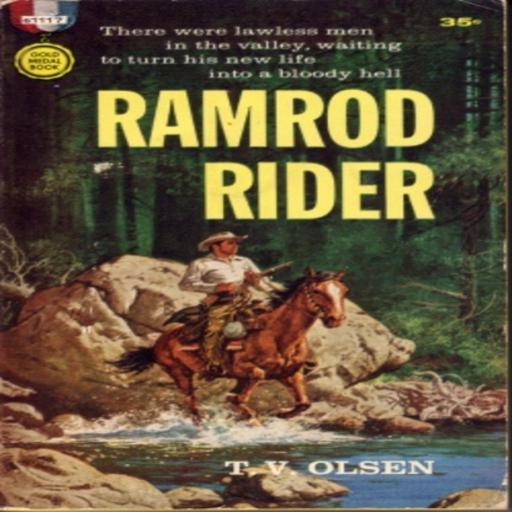horse: (100, 264, 350, 422)
